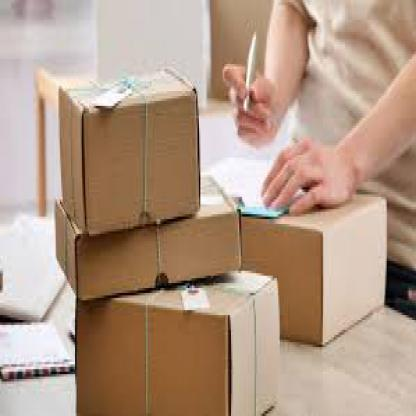paquete: (67, 288, 291, 414), (56, 69, 204, 221), (46, 189, 241, 298)
